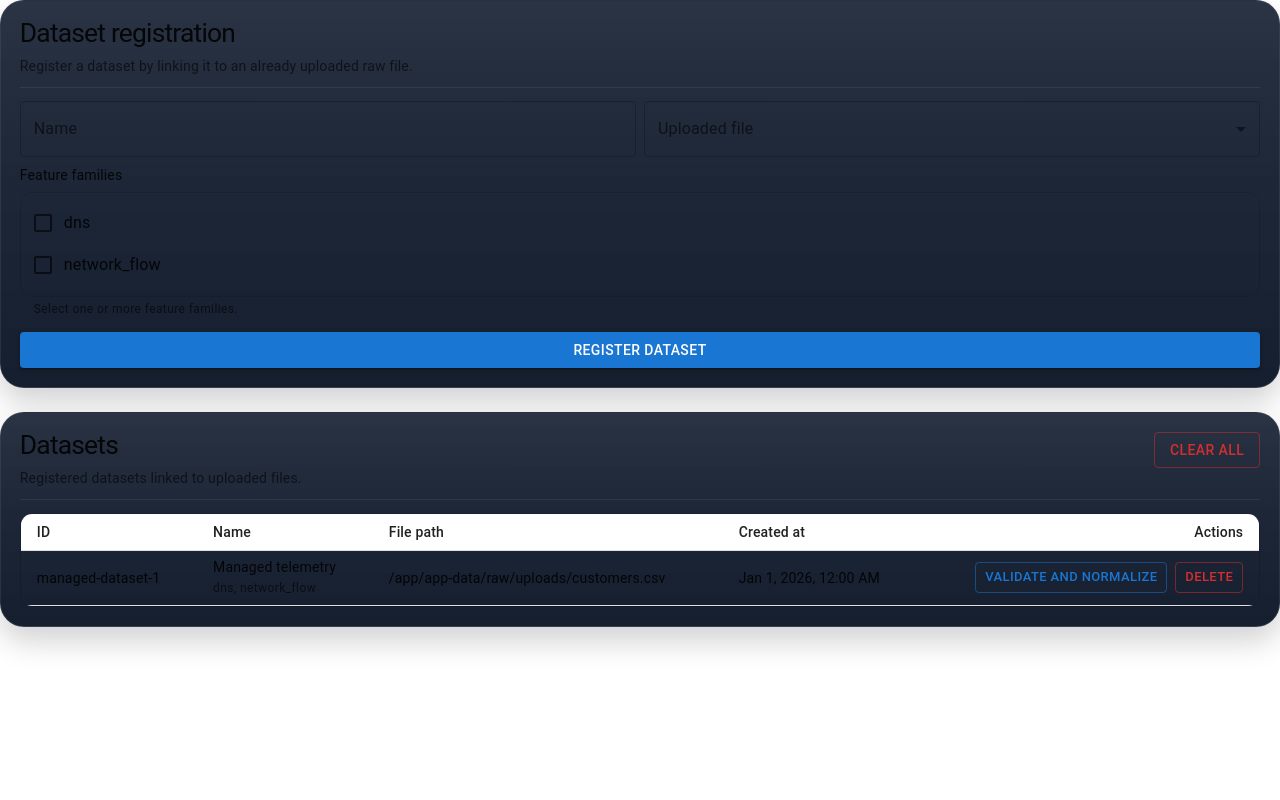
Test case: DataManagementPage › clears all managed dataset records after confirmation
Click the button "Clear all".
click(1207, 450)  # box [1154,432,1260,468]
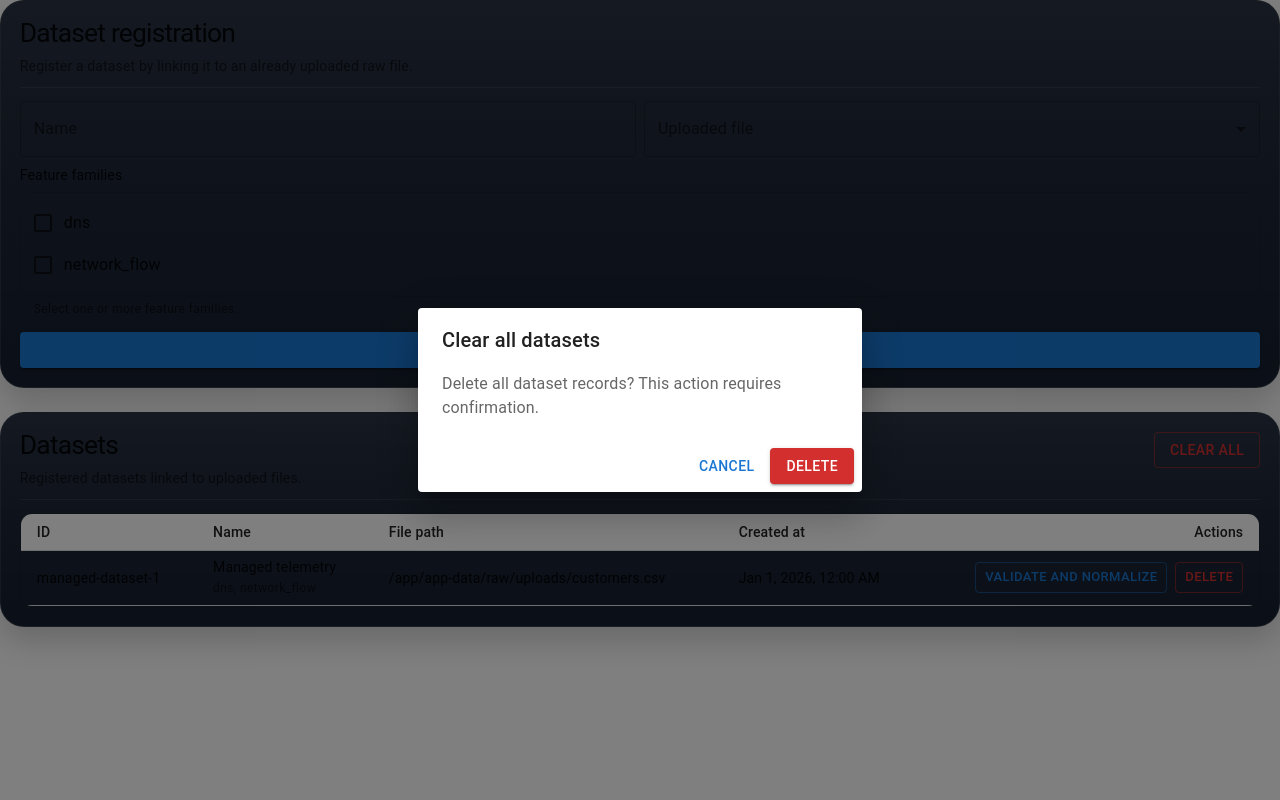
Click the button "Delete".
click(812, 466)  # box [770,448,854,484]
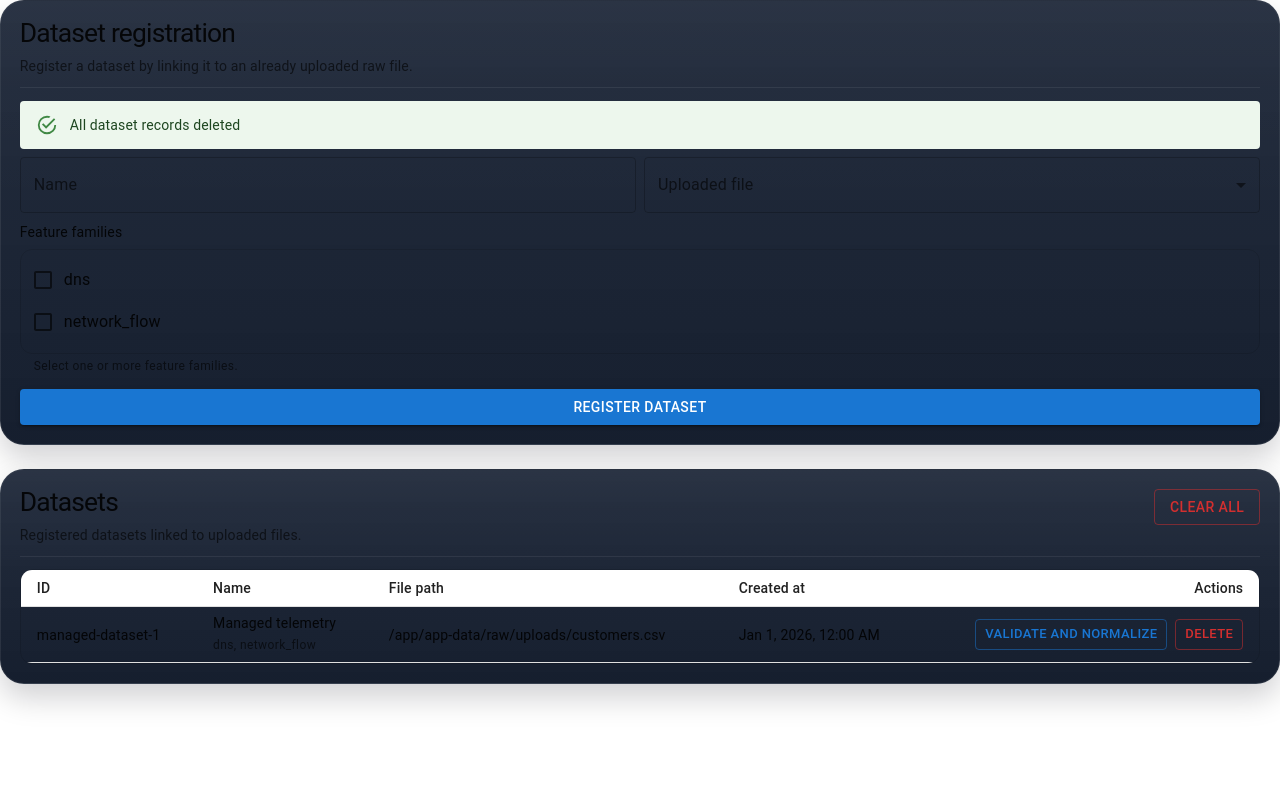
Check: the text "All dataset records deleted" is shown, box [70,116,240,132]
